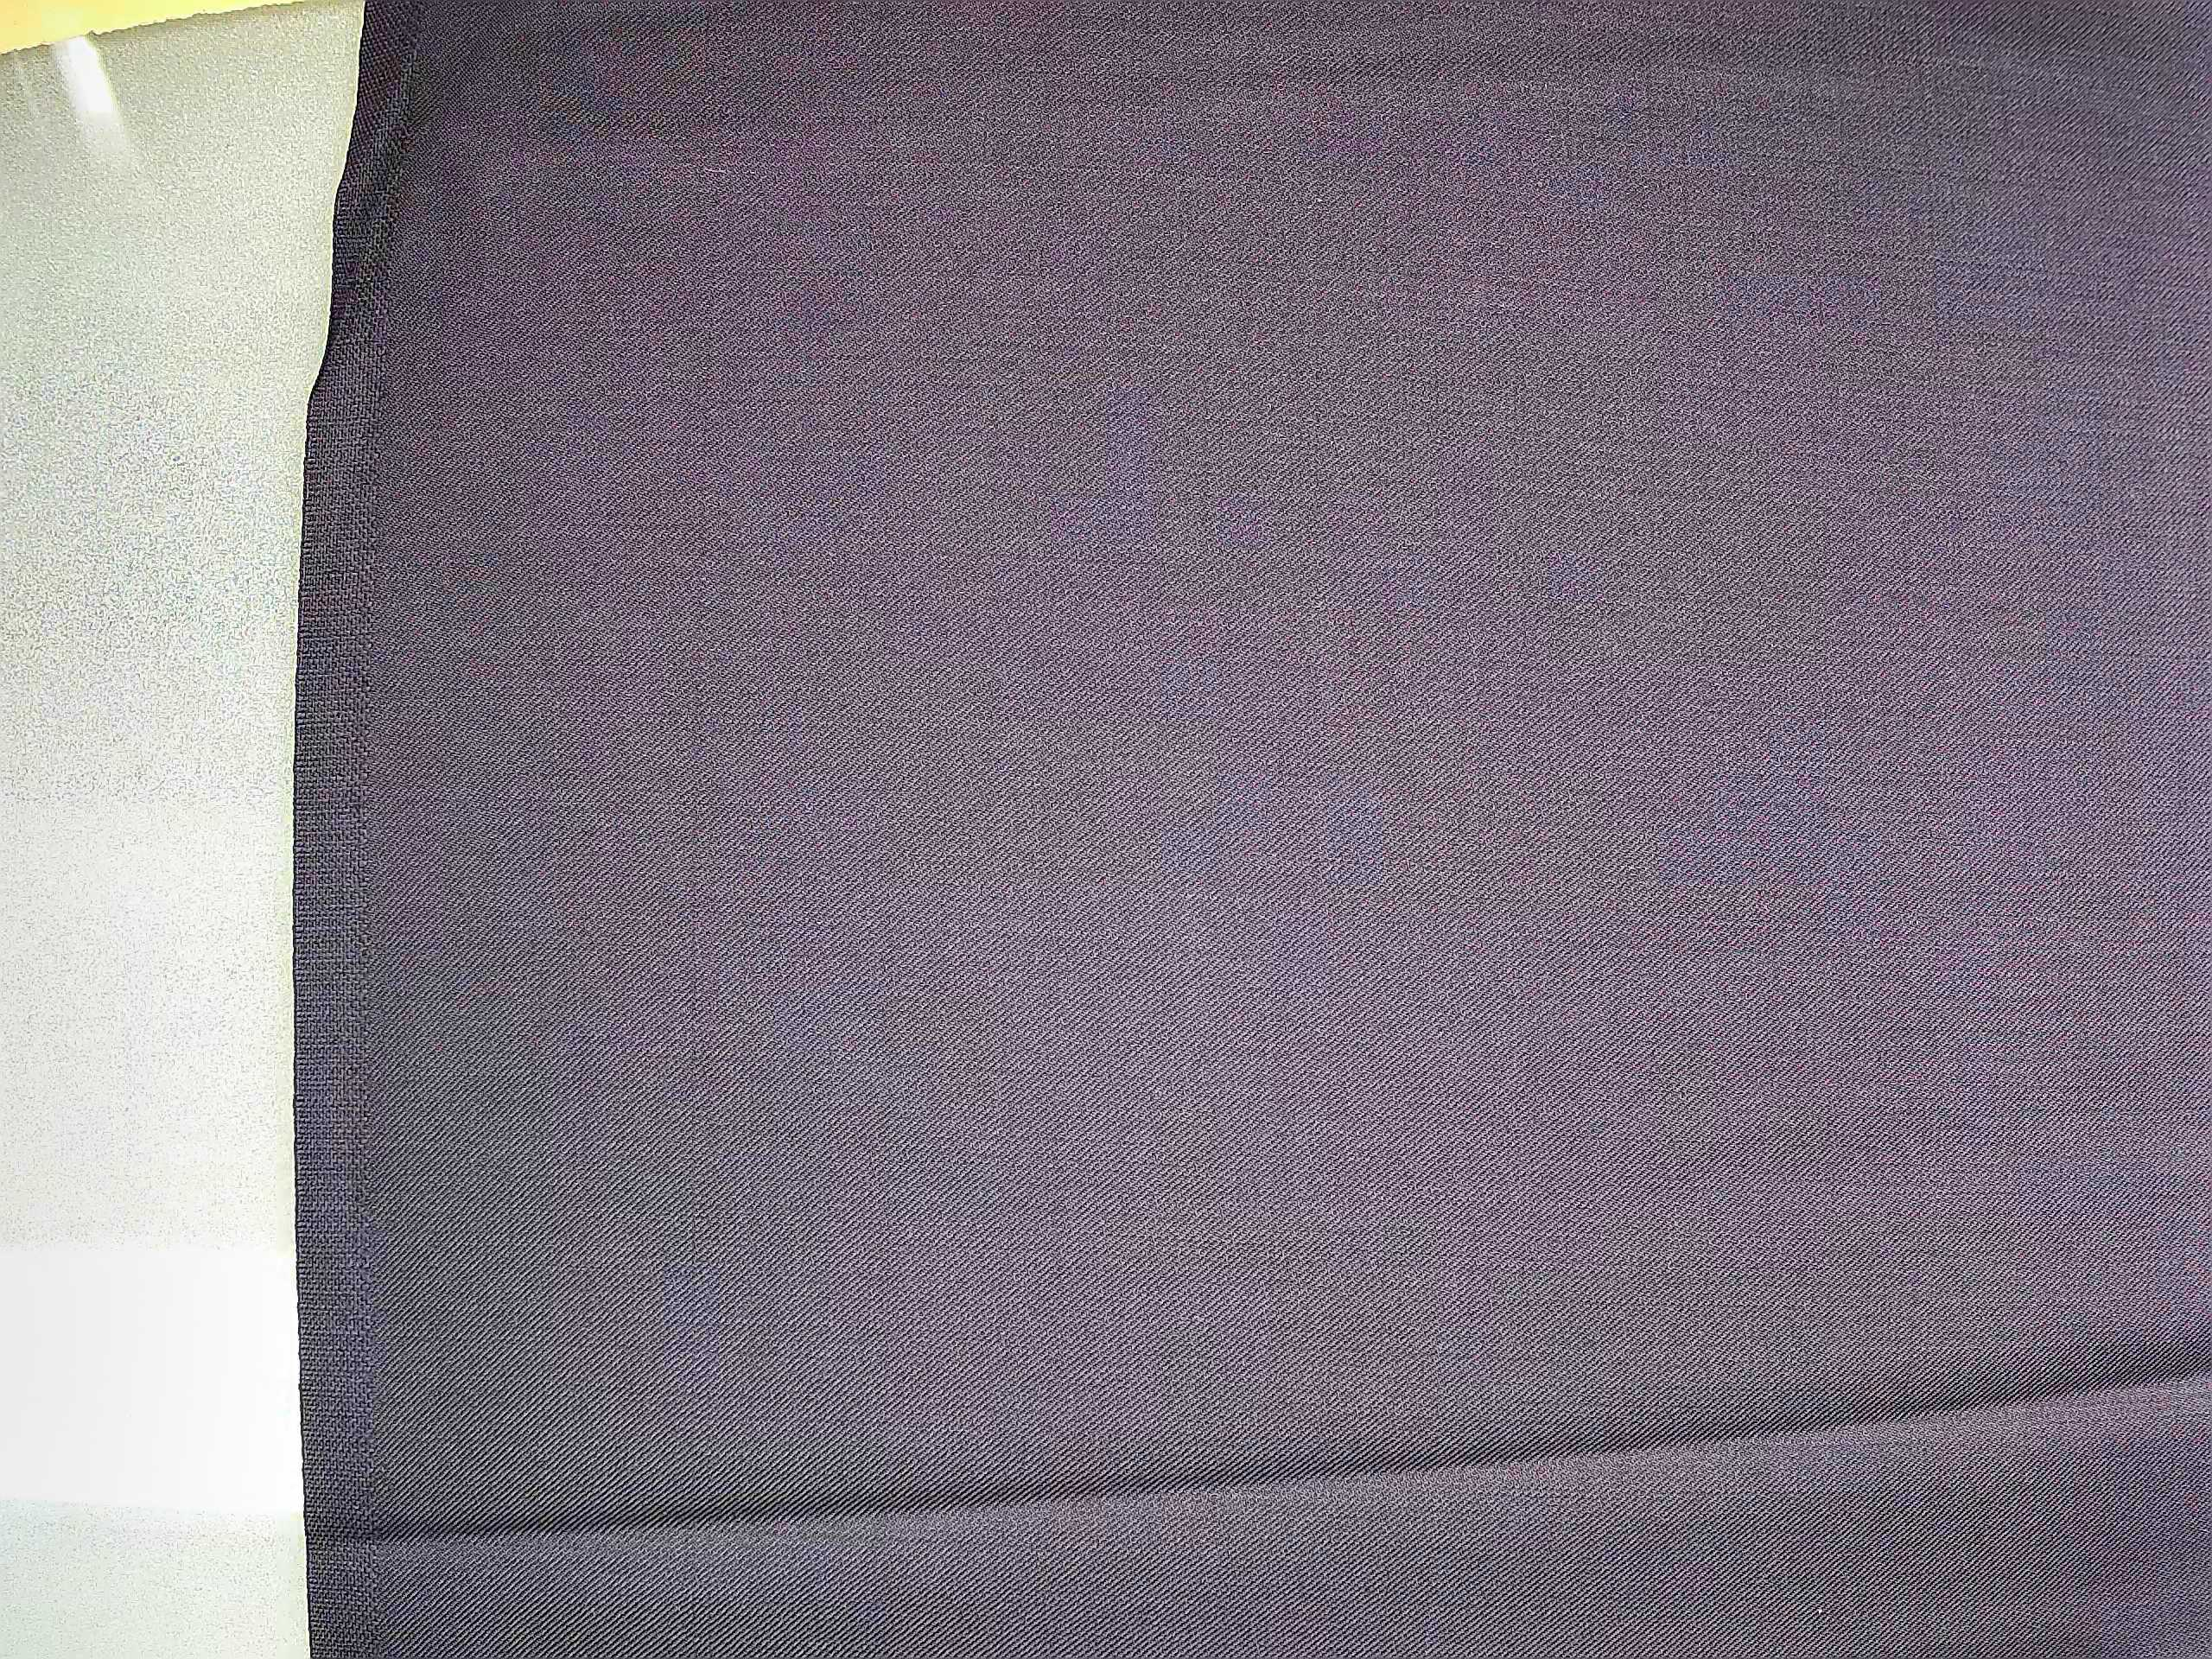hanging-warp: (664, 47, 745, 1286)
